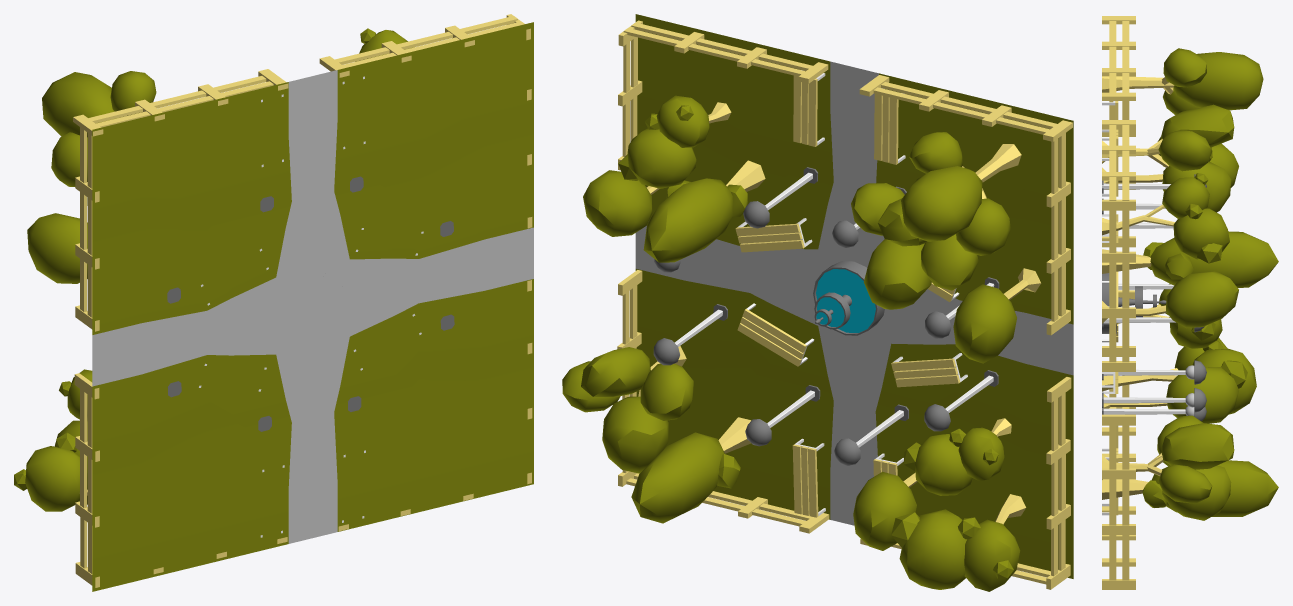
File: Park01.fbx
3 renders of one model, left to right at view 1: azimuth 30°, elevation 25°; view 2: azimuth 150°, elevation 25°; view 3: azimuth 270°, elevation 25°, orthographic. The views are drawn at different scales.
Parts seen in each view (by area): view 1: Park01; view 2: Park01; view 3: Park01.
Part boxes in pixels (<box>): Park01: <box>14,14,533,591</box>; Park01: <box>562,14,1073,591</box>; Park01: <box>1102,16,1278,589</box>.
Bounding box in the file's own units: 1703 × 1601 × 650.
